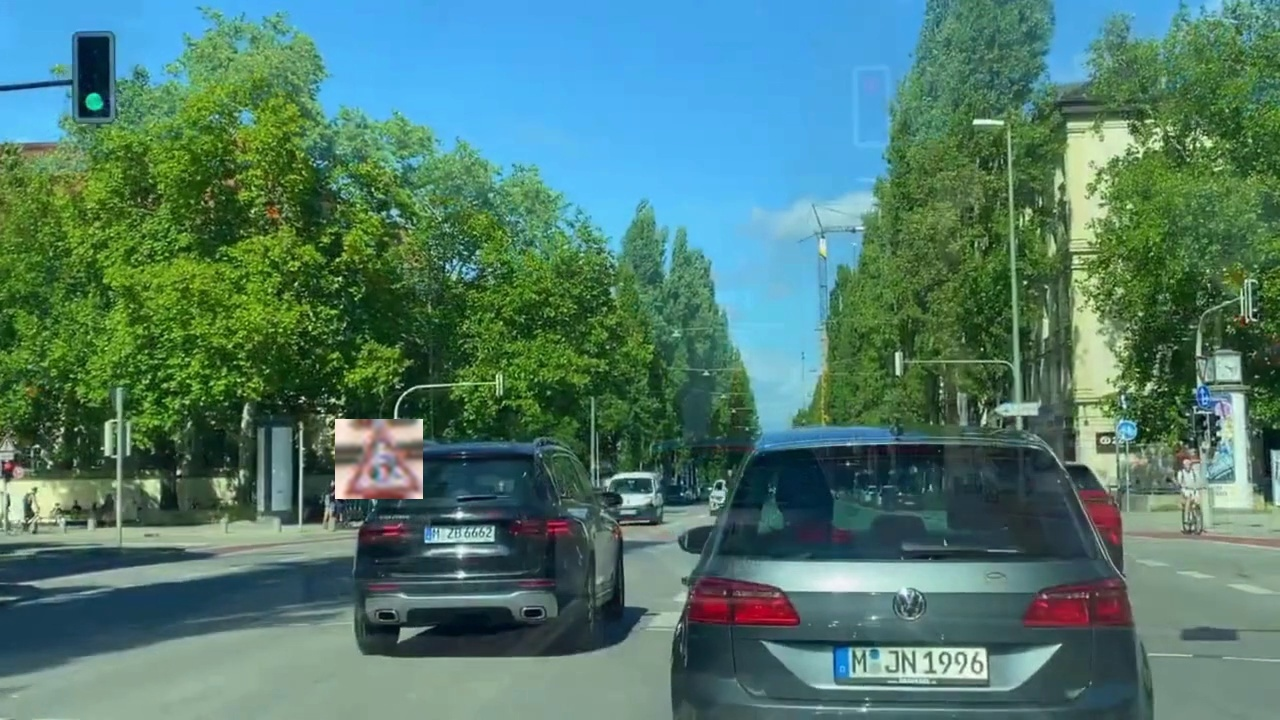Children: (335, 419, 423, 499)
